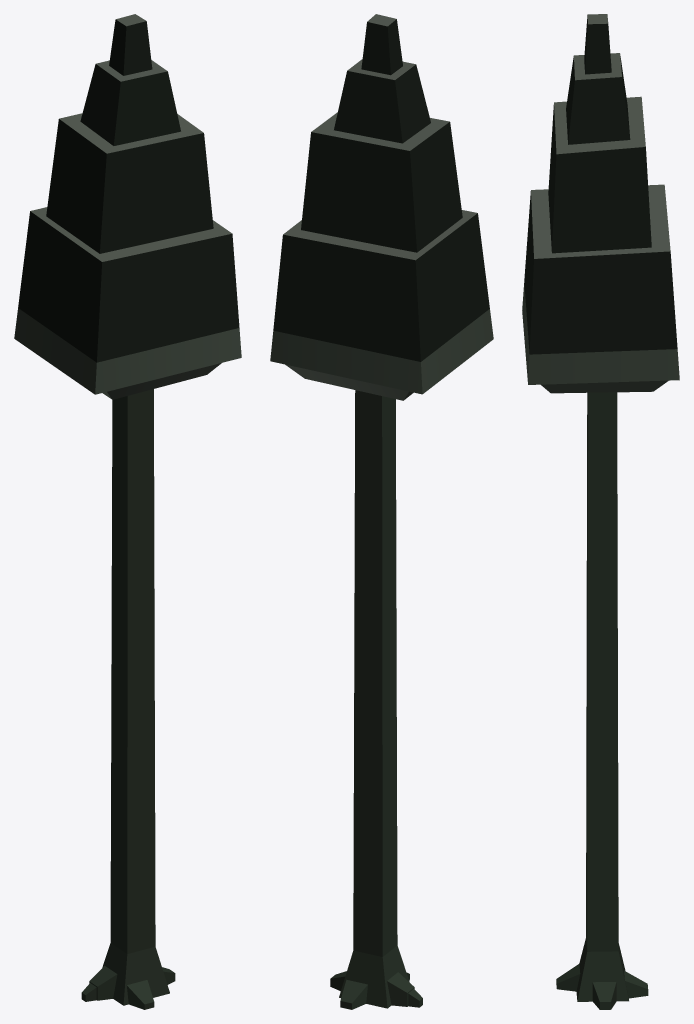
The model's file is SF_Env_Tree_Snow_12.glb.
The picture shows the model from 3 angles, left to right: view 1: azimuth 30°, elevation 25°; view 2: azimuth 150°, elevation 25°; view 3: azimuth 270°, elevation 25°; orthographic projection.
Parts seen in each view (by area): view 1: SF_Env_Tree_Snow_12; view 2: SF_Env_Tree_Snow_12; view 3: SF_Env_Tree_Snow_12.
Part boxes in pixels (x1,y1,x2,y2): SF_Env_Tree_Snow_12: (14,14,241,1009); SF_Env_Tree_Snow_12: (270,14,493,1009); SF_Env_Tree_Snow_12: (522,14,679,1009).
Size of the model in its own units: 0.0303 by 0.1823 by 0.0269.
Materials: 1 (1 with a texture image).
